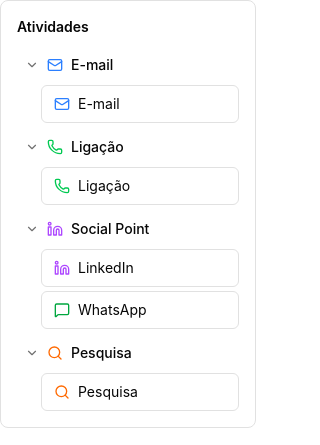
Test: ActivityTypeSidebar › should collapse a category when clicked
Click the category to collapse
Click the button "E-mail": (128, 65) [17,49,239,81]
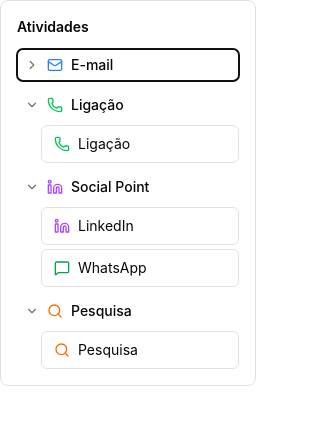
Check: the text "E-mail" is shown once, box [71,55,113,75]
